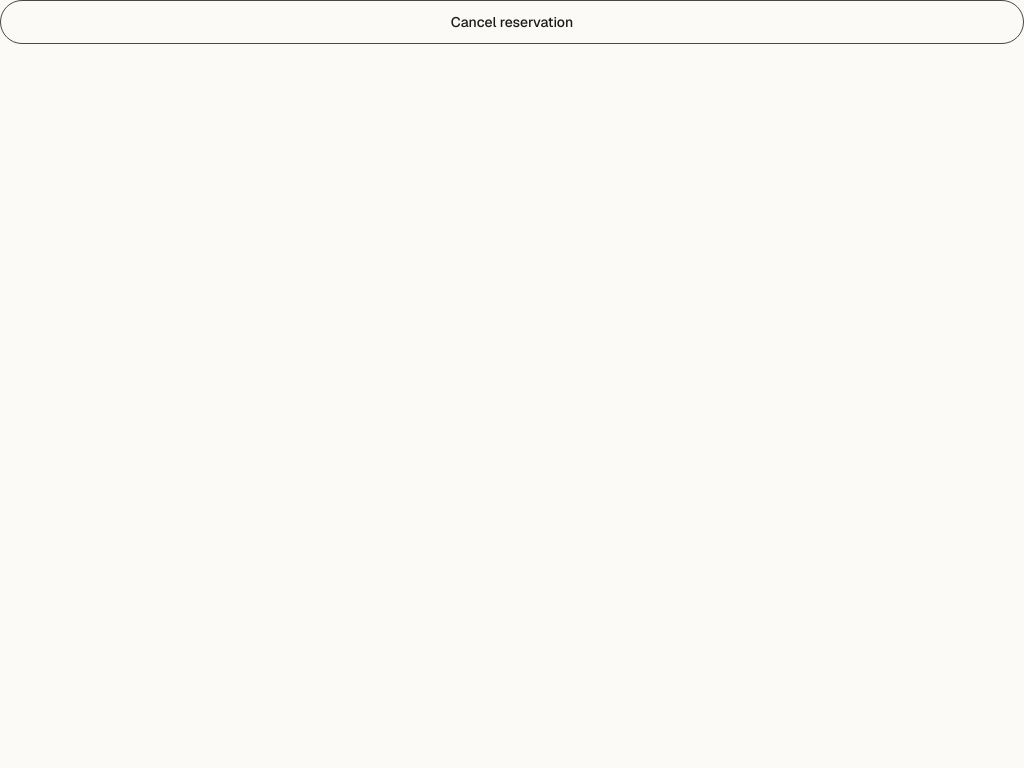
Test: a refused save keeps the explanation and typed confirmation for correction and retry
Click the button "Cancel reservation" at (512, 22), box top-left (0, 0), bottom-right (1023, 44)
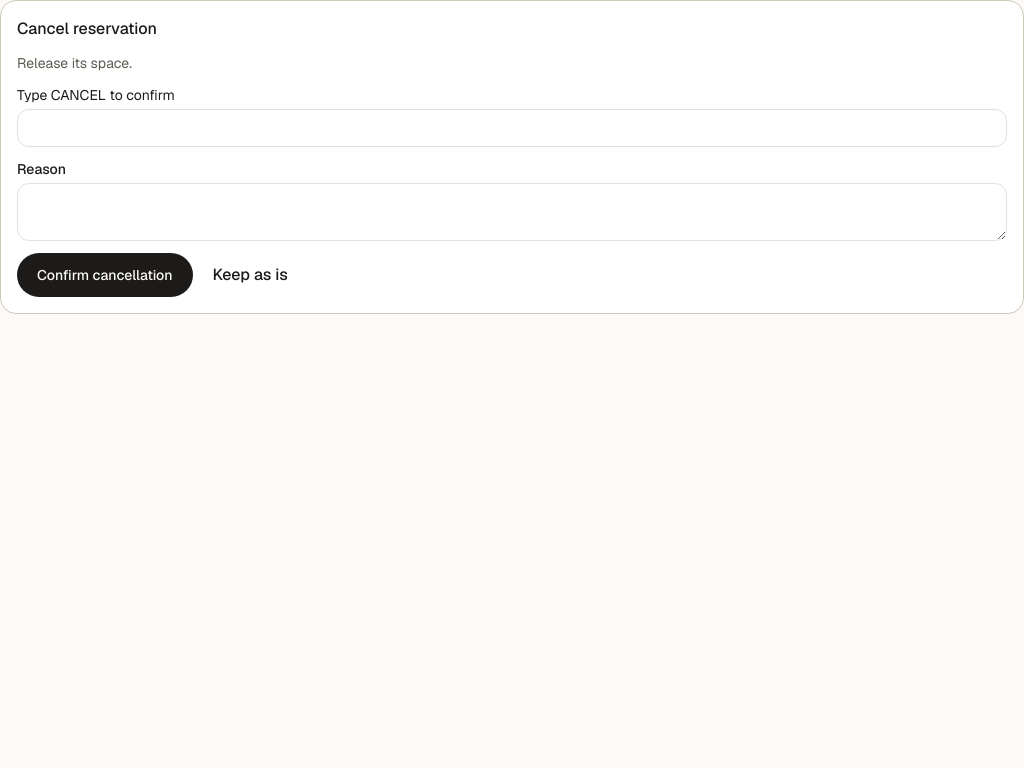
Type "Requested by advertiser" into the text box labelled "Reason" at (512, 212), box top-left (17, 183), bottom-right (1007, 241)
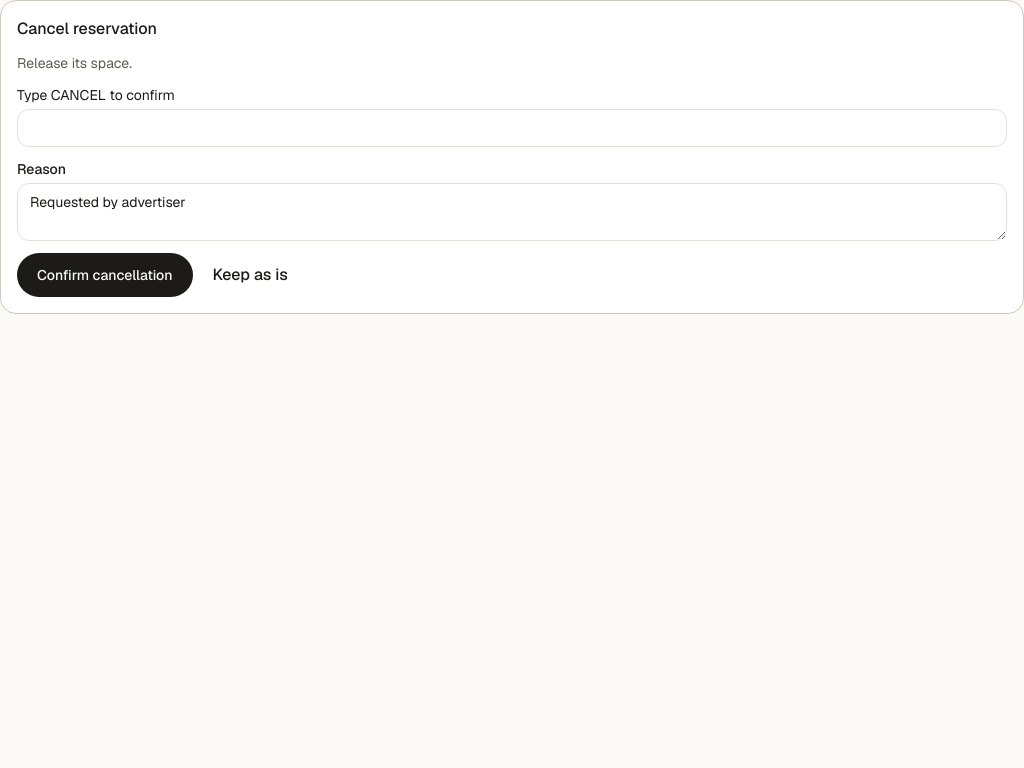
Type "CANCEL" into the field labelled "Type CANCEL to confirm" at (512, 128), box top-left (17, 109), bottom-right (1007, 147)
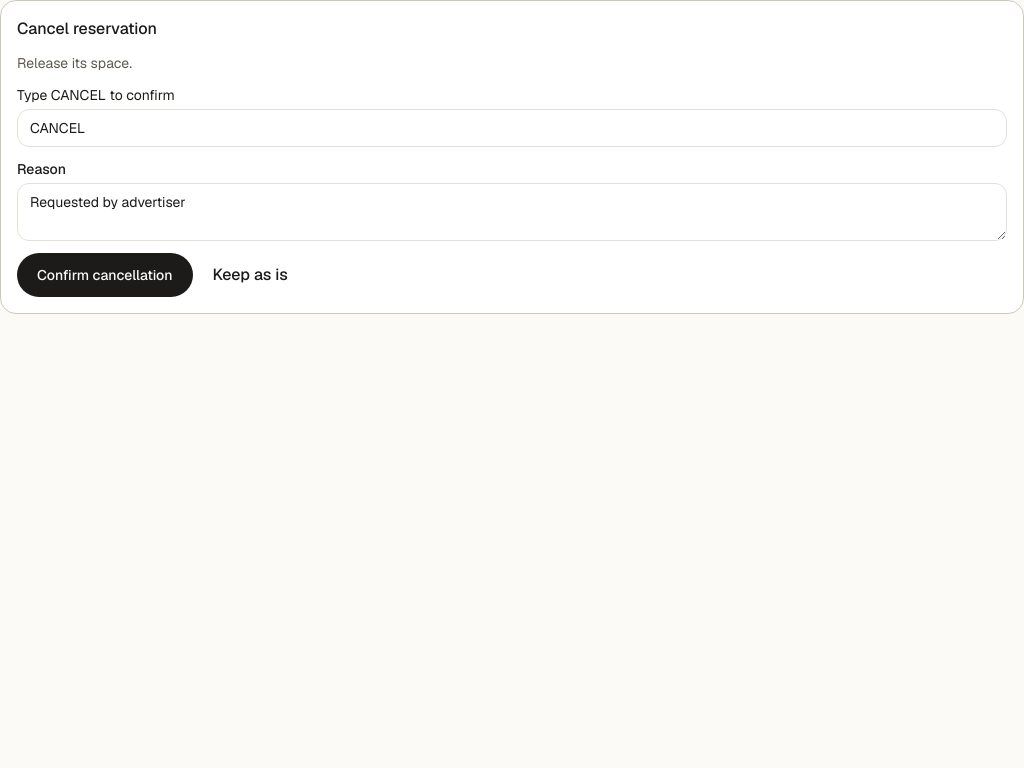
Click the button "Confirm cancellation" at (105, 275), box top-left (17, 253), bottom-right (192, 297)
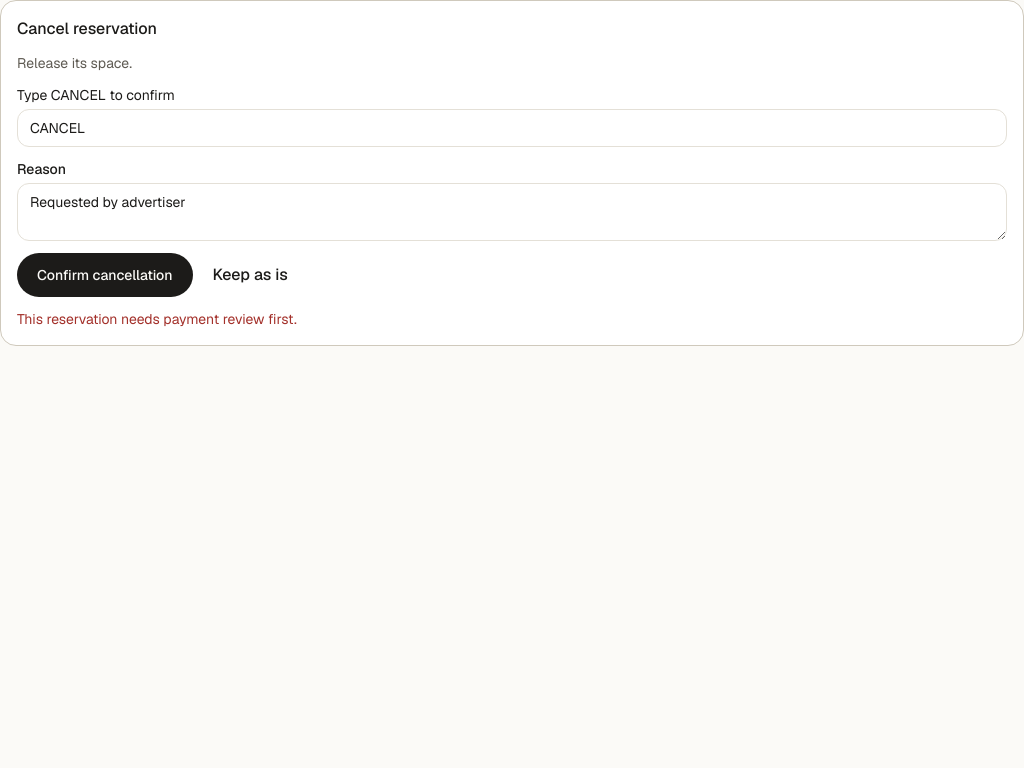
expect the message shows "payment review": met, box top-left (17, 310), bottom-right (297, 328)
Click the button "Confirm cancellation" at (105, 275), box top-left (17, 253), bottom-right (192, 297)
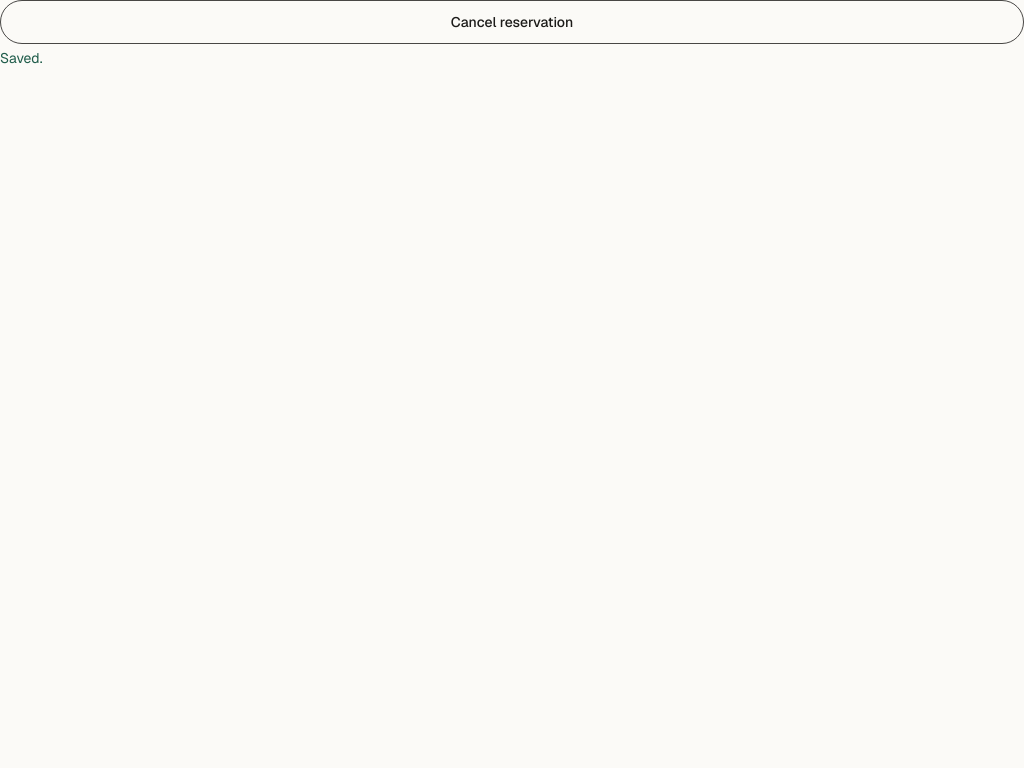
expect the message reads "Saved.": met, box top-left (0, 49), bottom-right (42, 67)
